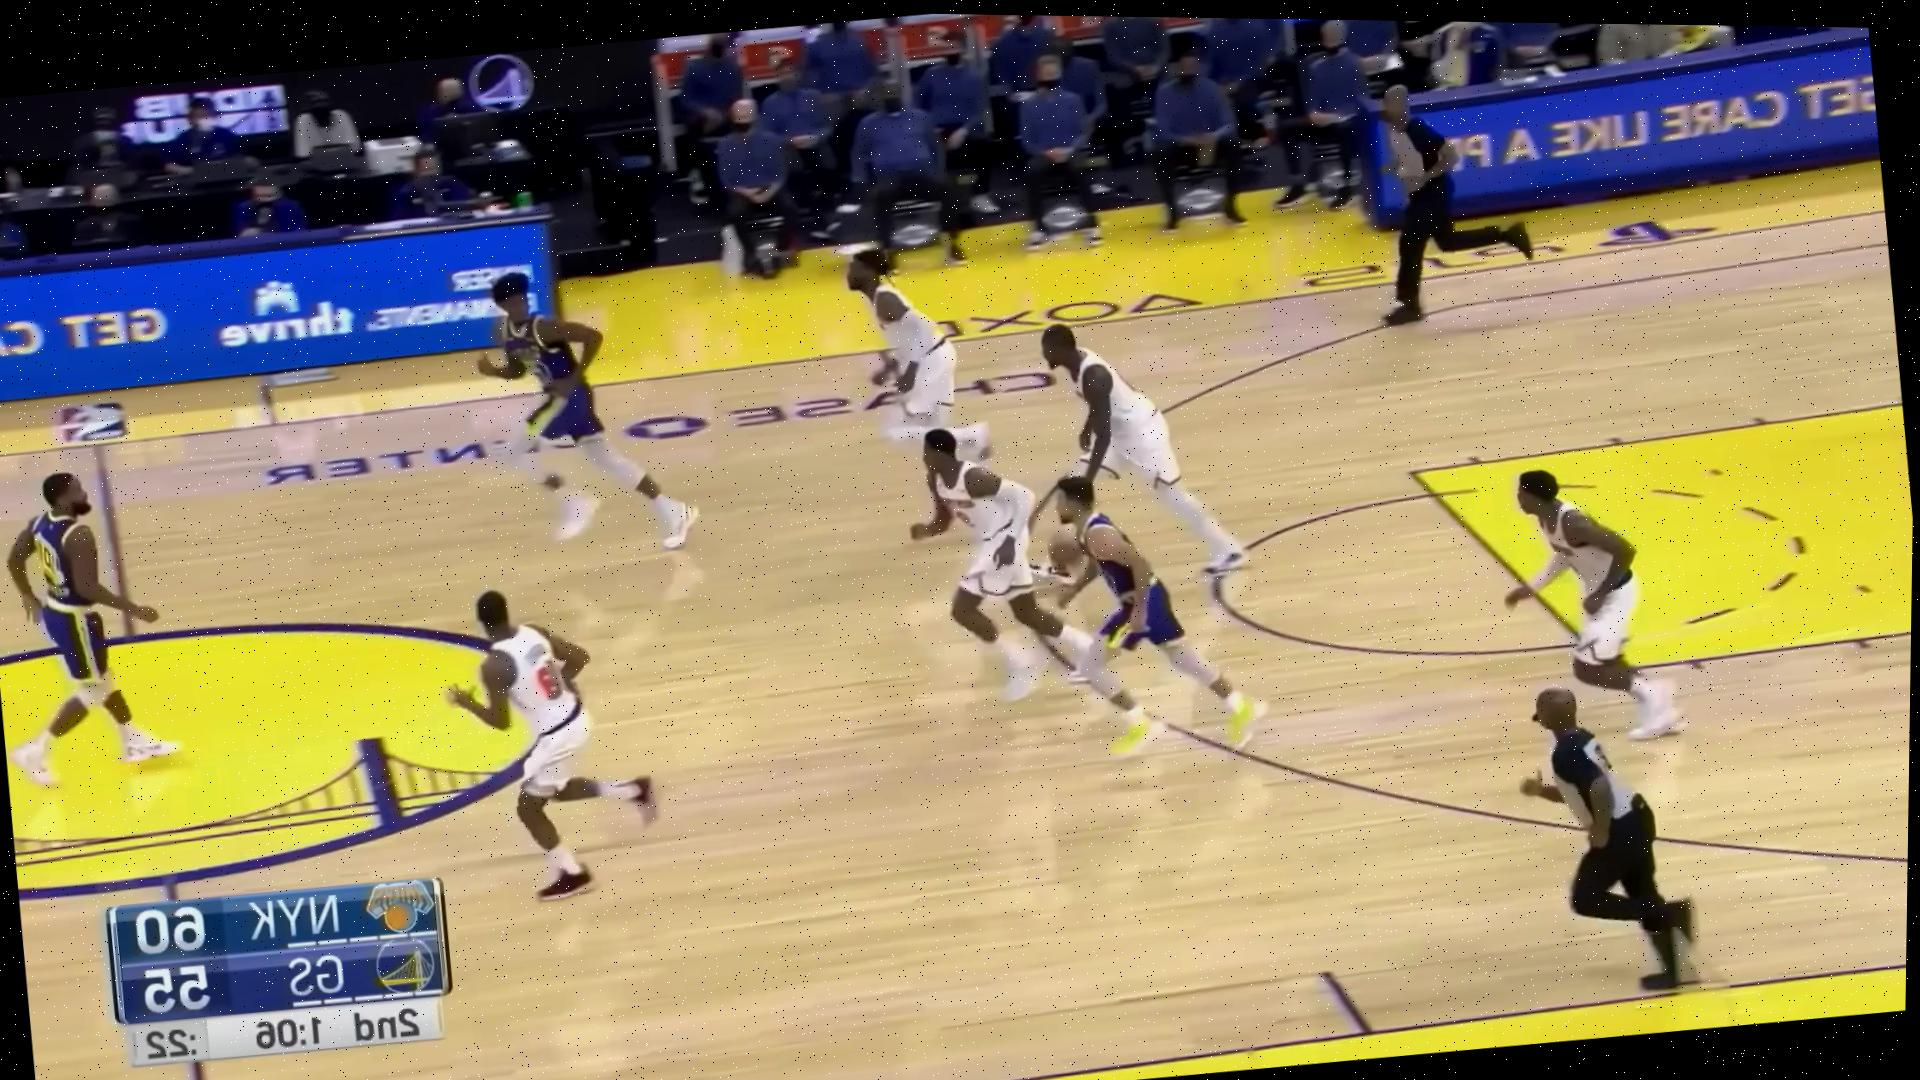no_foul: (908, 391, 1222, 772)
